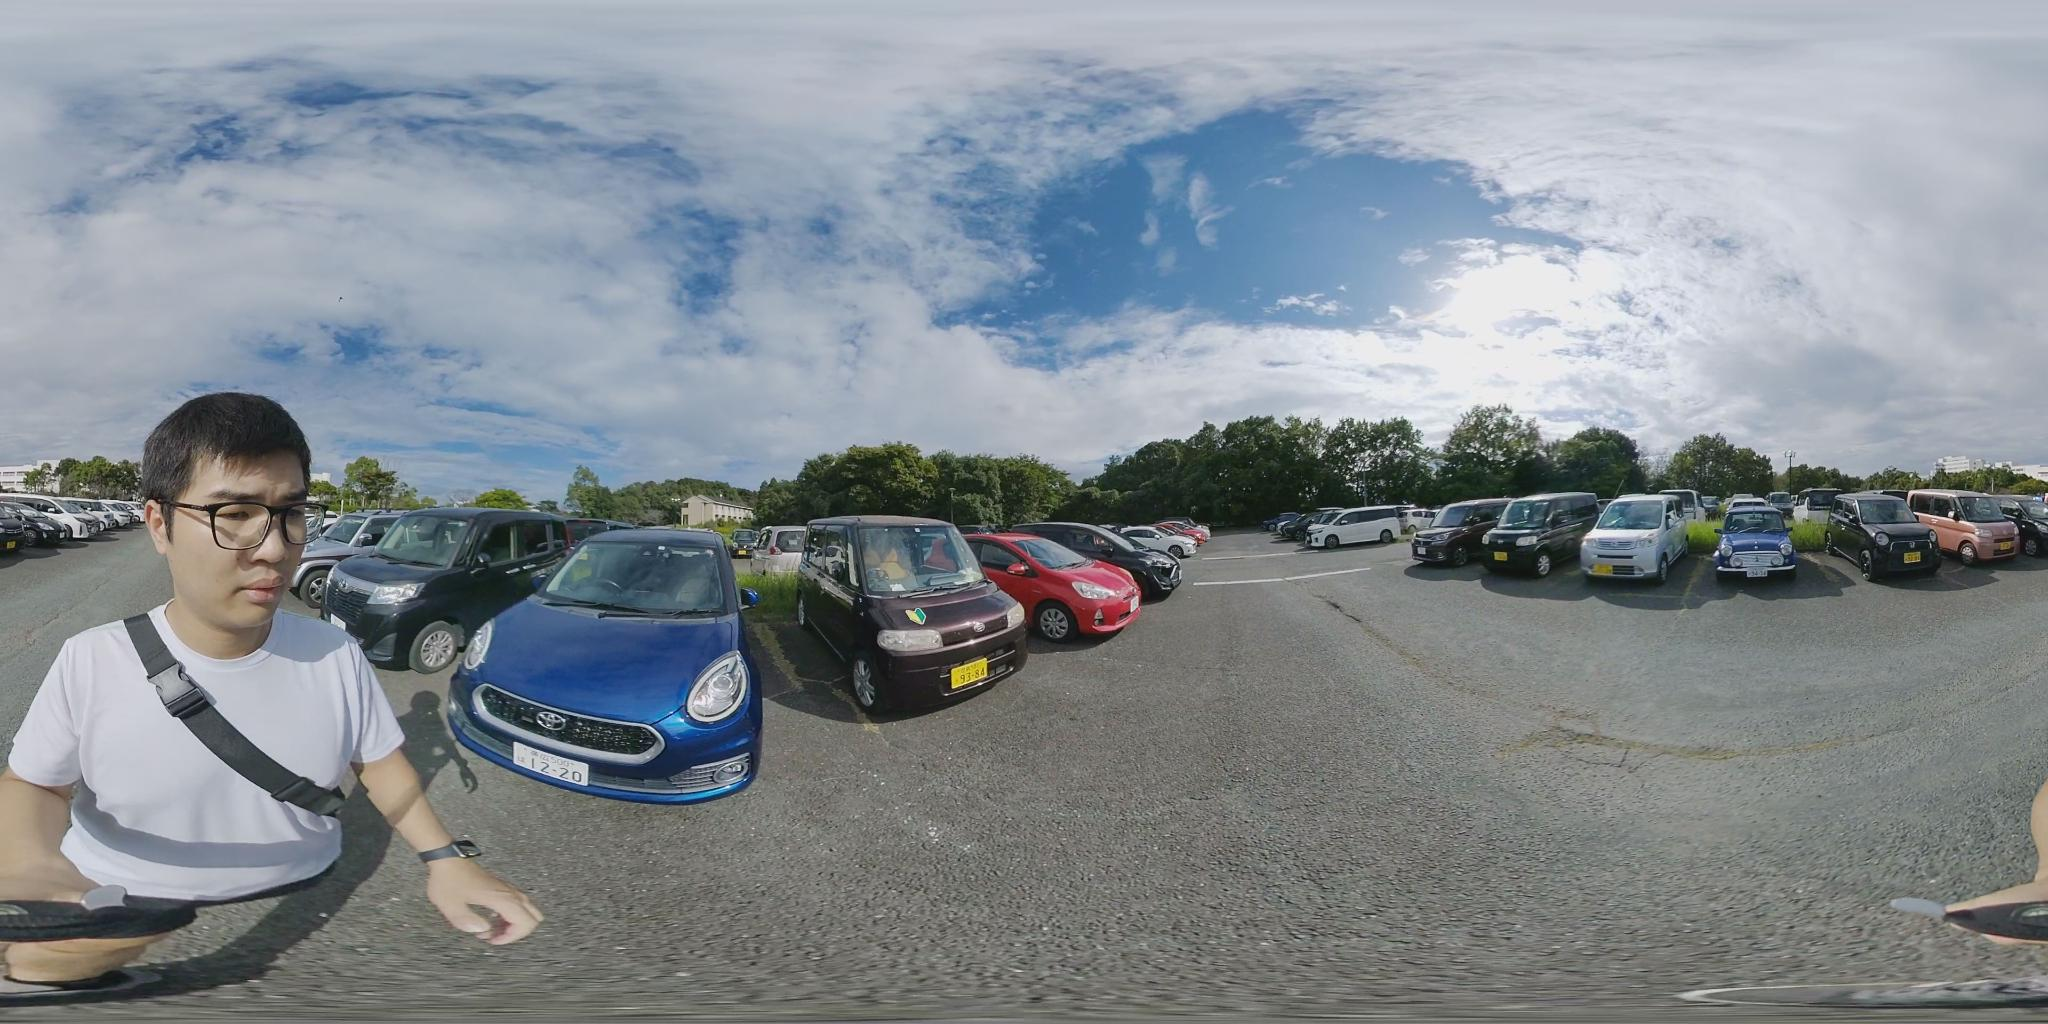car: (461, 530, 758, 794), (776, 512, 1040, 724), (310, 508, 603, 670), (964, 530, 1139, 644), (1476, 492, 1605, 572), (1582, 496, 1694, 580), (1829, 496, 1934, 576), (1411, 498, 1520, 564), (1915, 491, 2009, 560), (1289, 508, 1433, 550), (1715, 507, 1793, 581), (3, 495, 77, 543), (52, 499, 135, 533)
